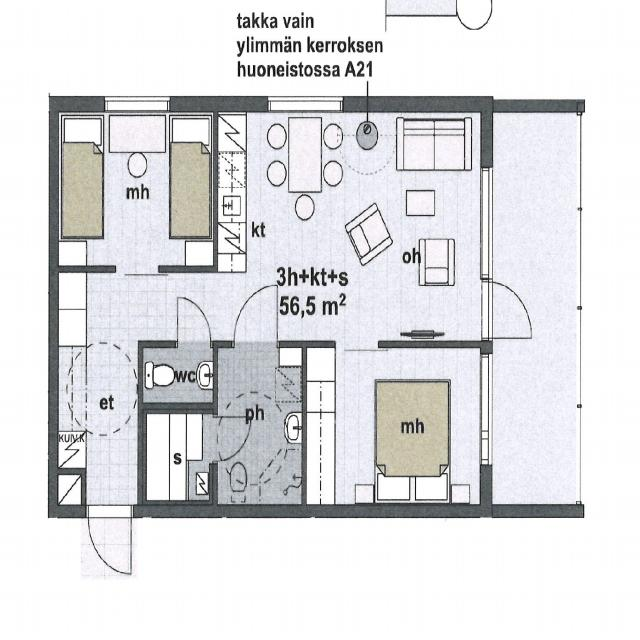door: (88, 504, 131, 574), (480, 282, 534, 337), (234, 285, 277, 347), (212, 416, 252, 461), (177, 297, 210, 347)
